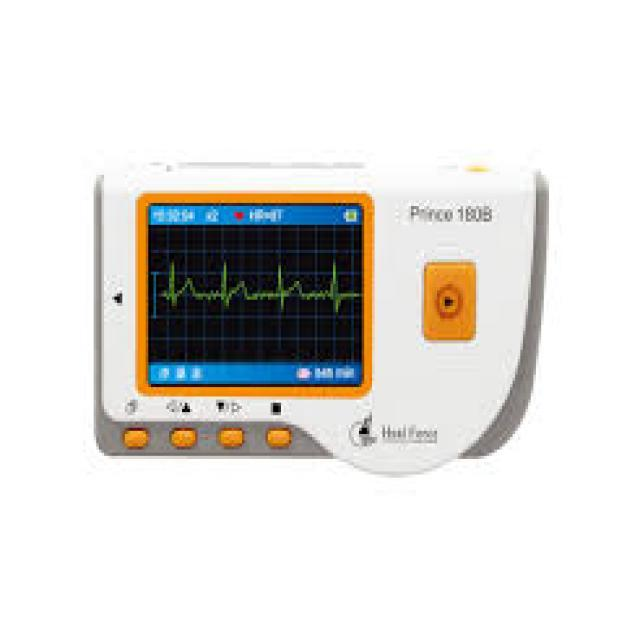cardiac_monitor: (81, 130, 531, 478)
